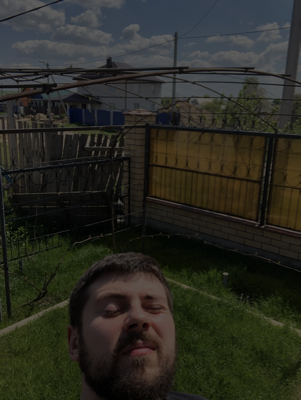without_mask: (89, 284, 176, 400)
